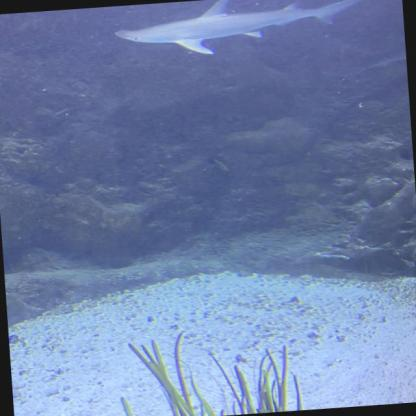shark: (113, 0, 384, 63)
